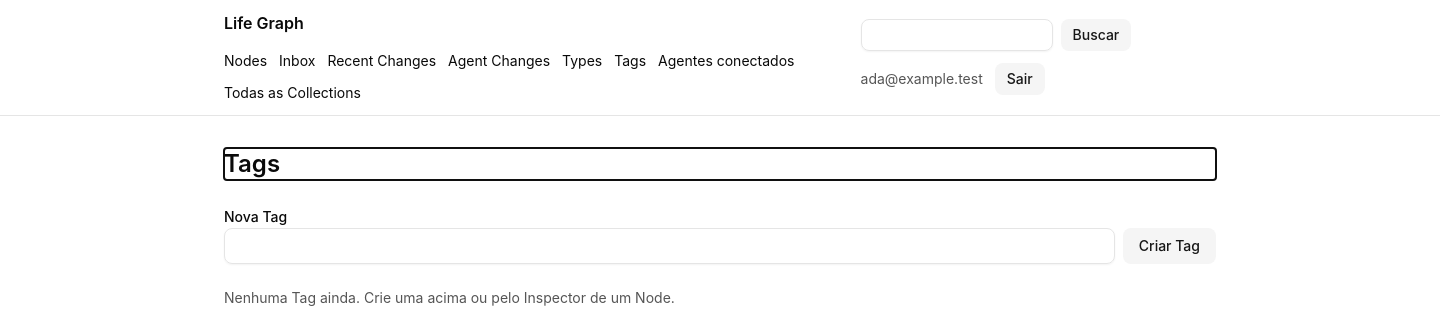
Test: search page › searches from the header box on submit and never while typing
In the search field named "Buscar no grafo": (956, 35) [860,19,1052,51], type "  filosofia "
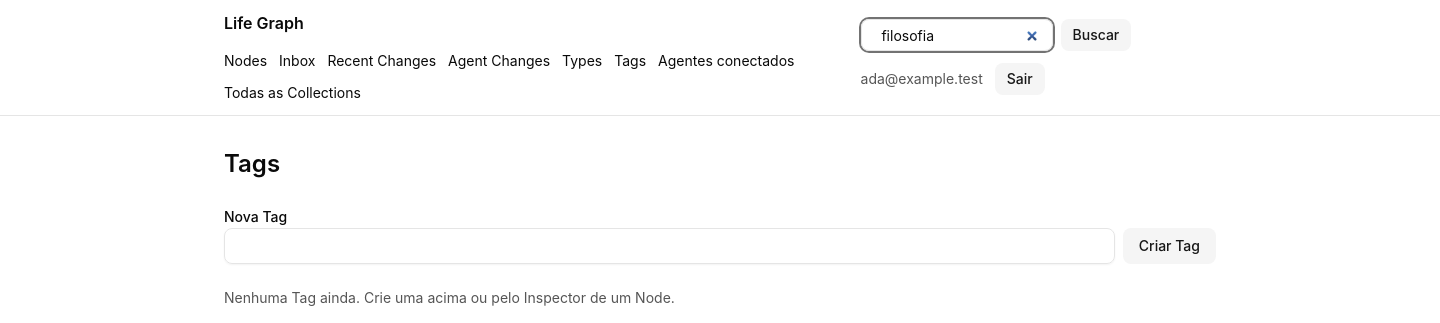
Click the button "Buscar": (1096, 35) [1060,19,1131,51]
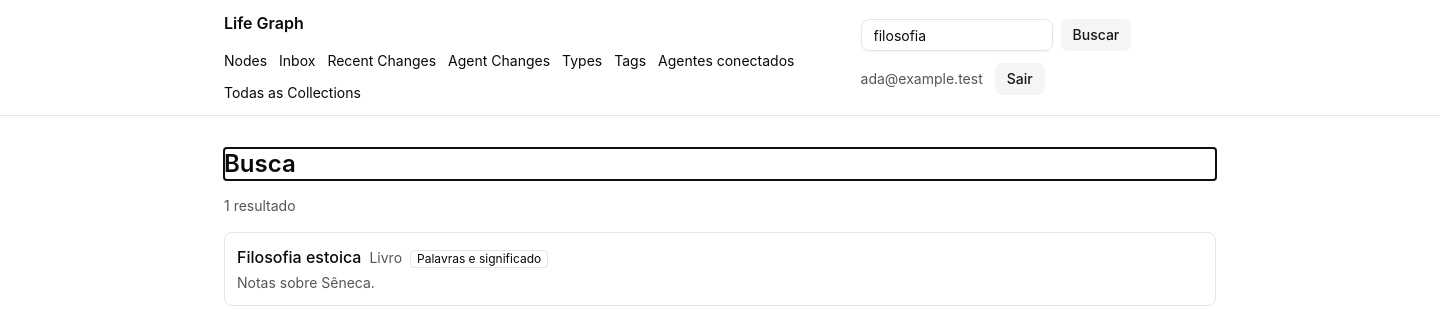
Check: the link "Filosofia estoica" is shown, box [237,245,361,269]
